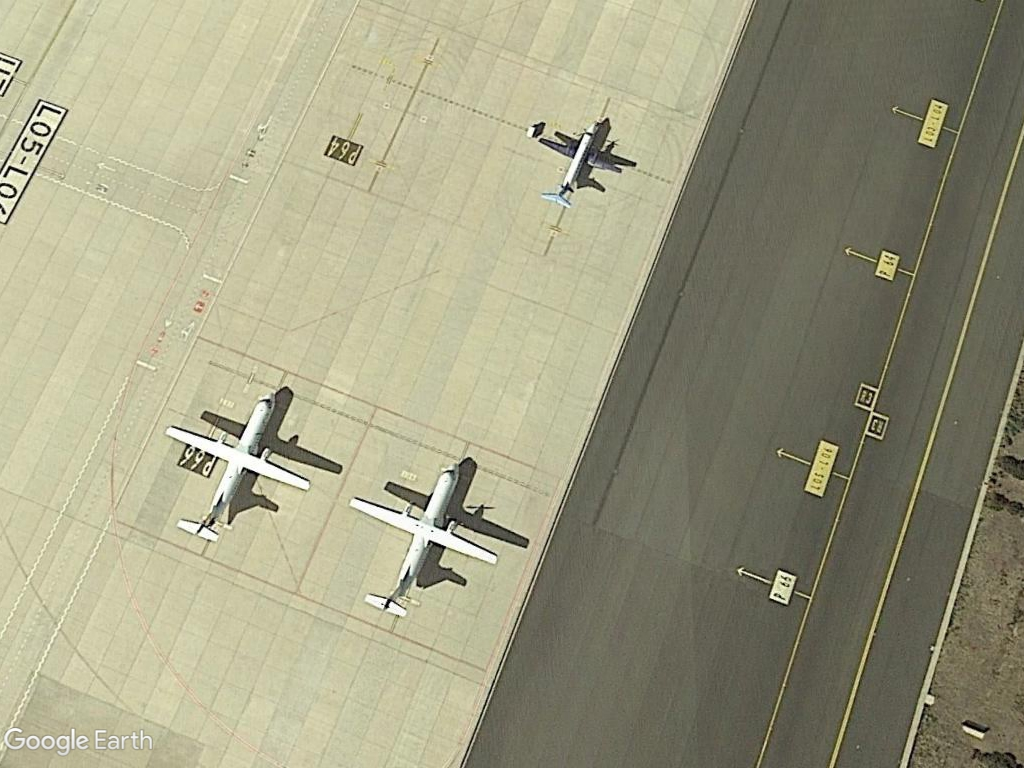propeller: (344, 443, 510, 624), (160, 381, 315, 548), (530, 112, 637, 213)
